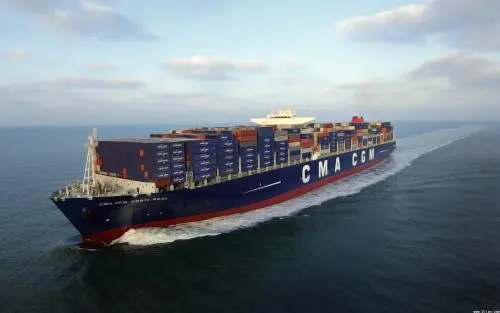Cargoship: (45, 102, 397, 238)
